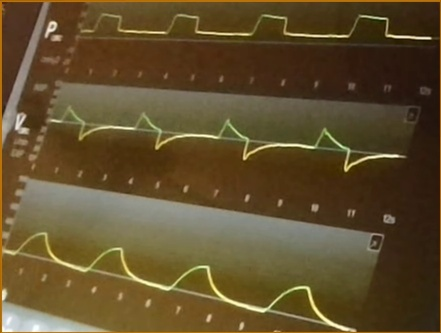Normal Flow: (51, 101, 401, 175)
Normal Volume: (6, 228, 355, 332)
